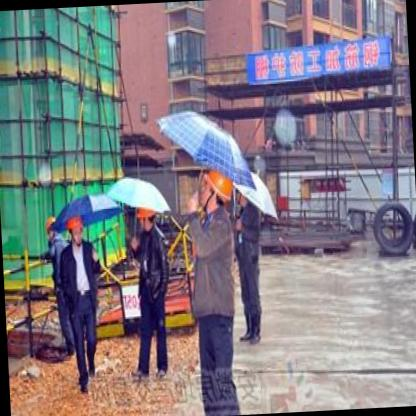helmet: (197, 169, 235, 217), (64, 213, 86, 248), (134, 201, 155, 234), (42, 209, 61, 242)
